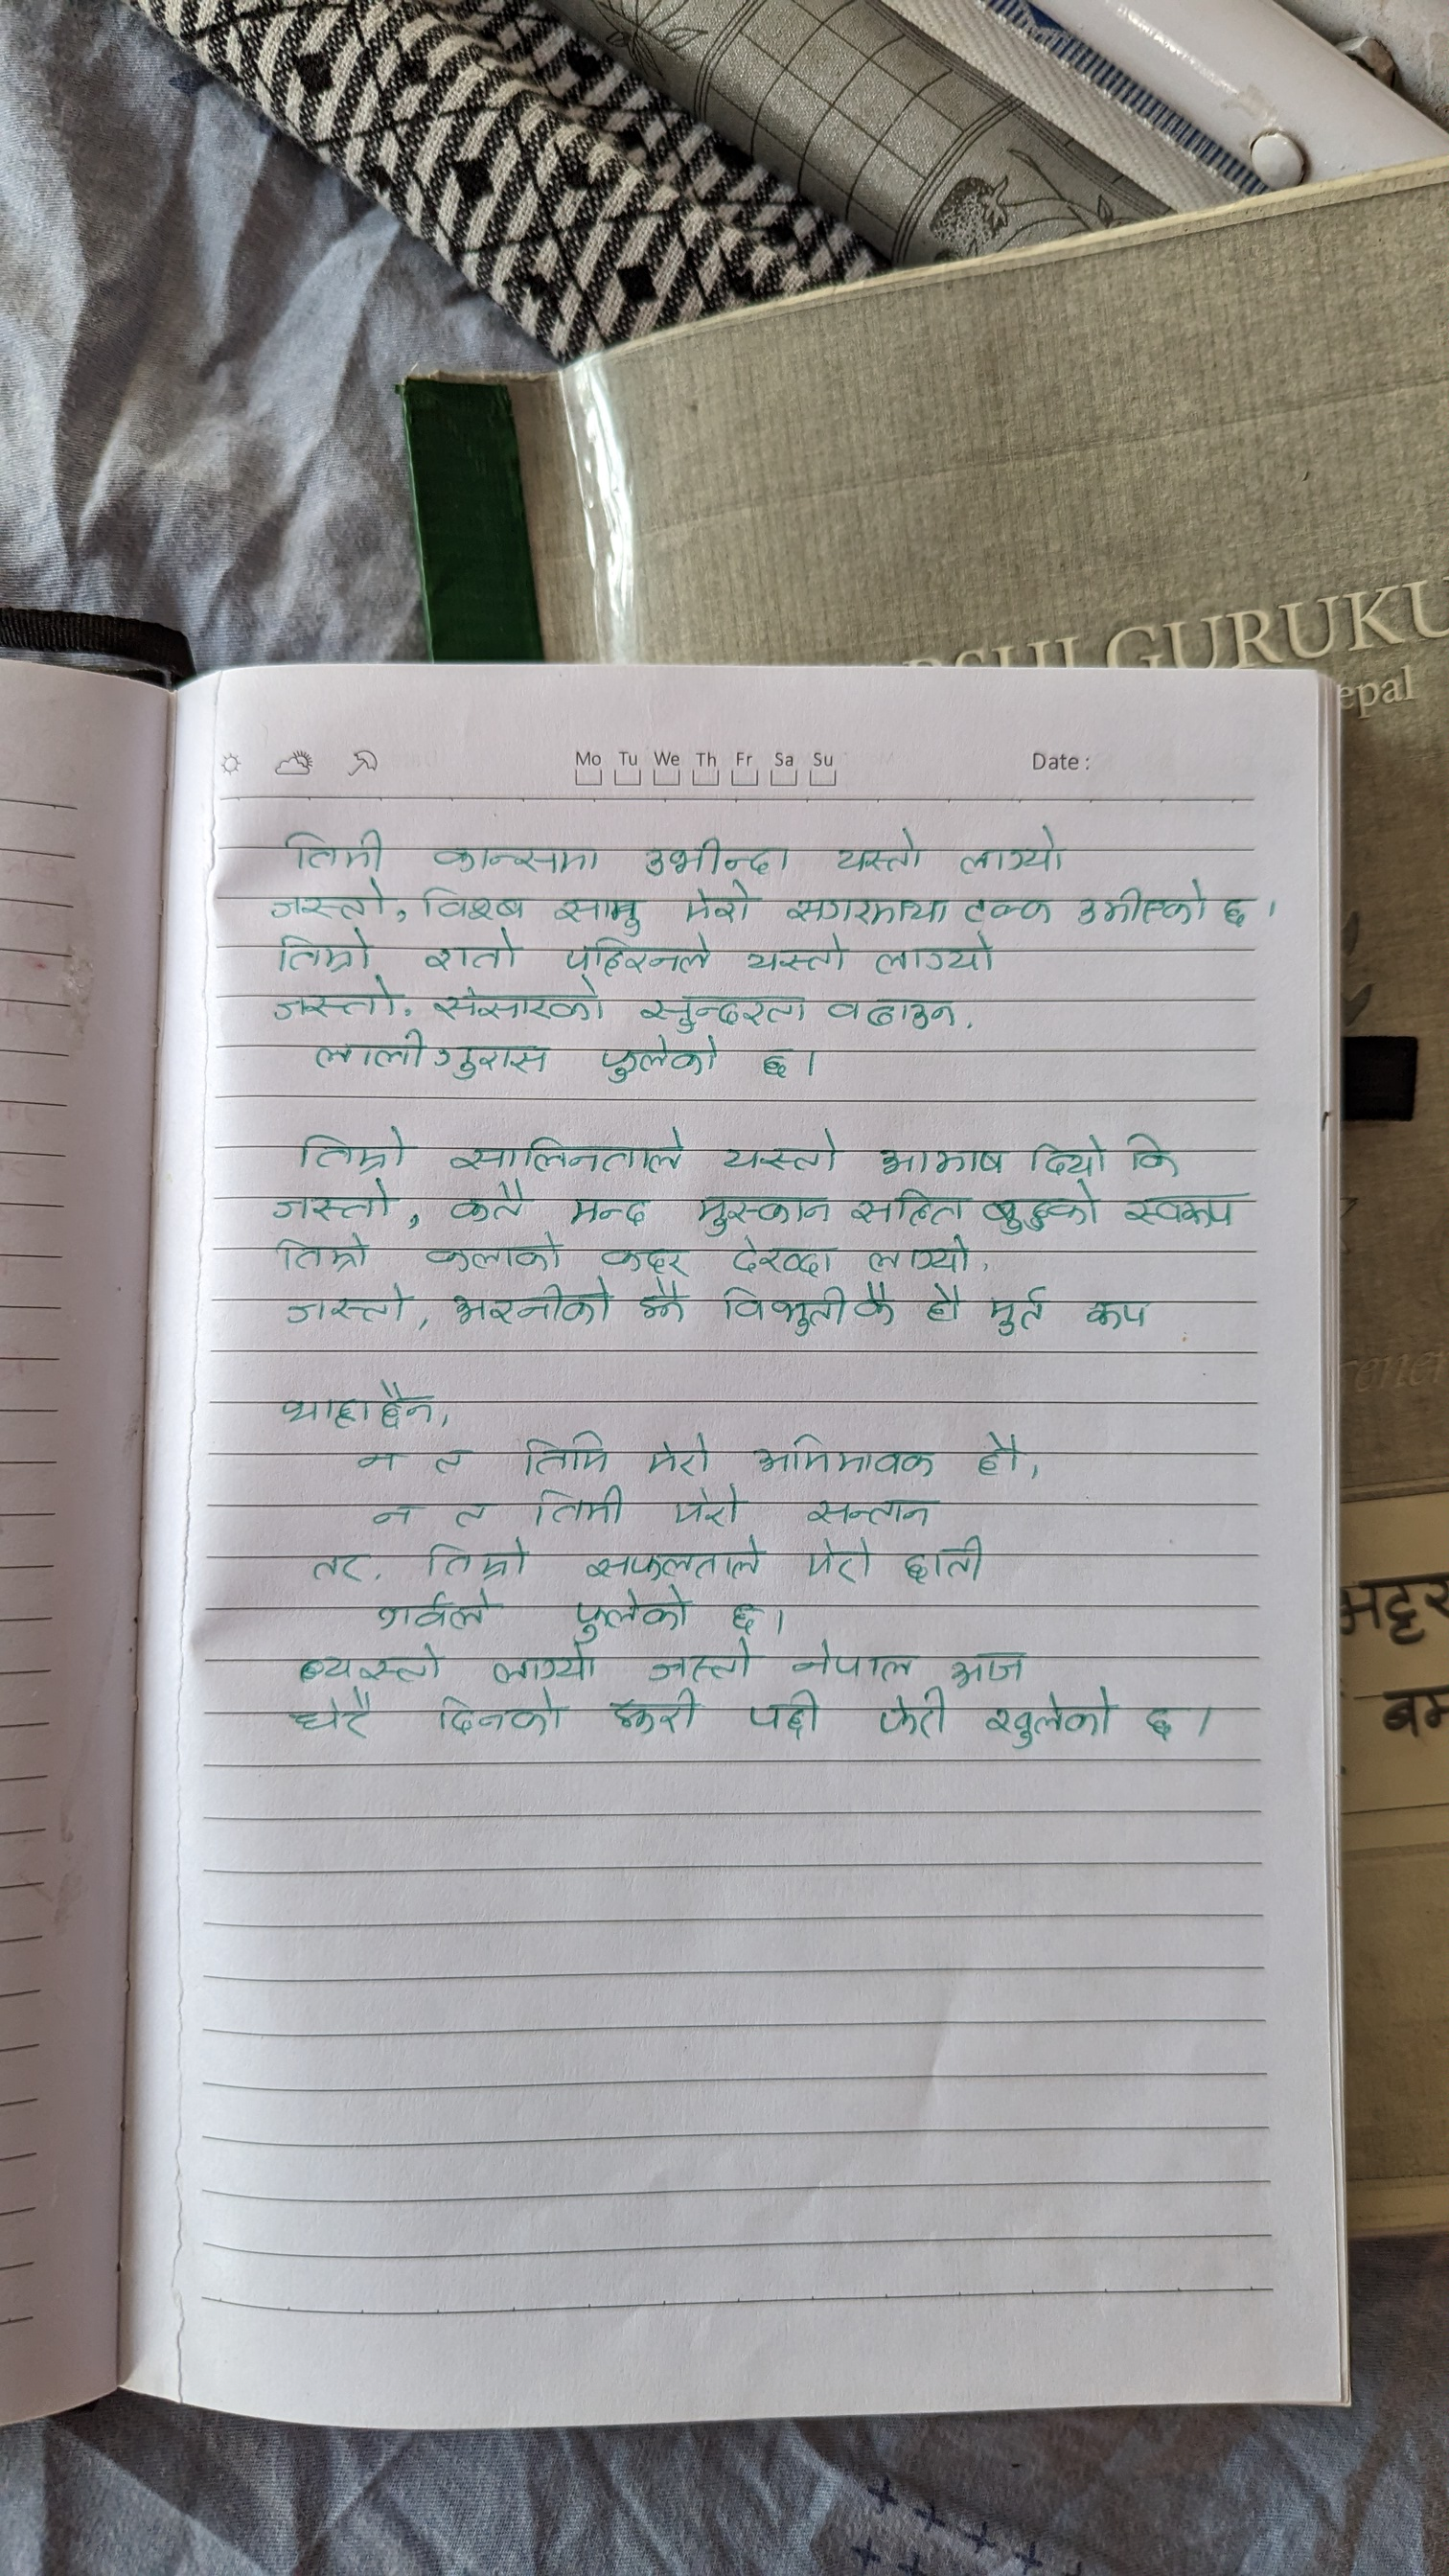text: (311, 1028, 548, 1083), (446, 1122, 683, 1177), (715, 1281, 897, 1339), (750, 1430, 936, 1479), (582, 1536, 763, 1585), (442, 1279, 616, 1329), (984, 1688, 1113, 1750), (428, 980, 607, 1023), (637, 991, 812, 1033), (640, 833, 793, 879), (421, 1231, 566, 1279), (568, 1585, 694, 1640), (1074, 879, 1212, 929), (692, 1189, 833, 1237), (432, 1690, 568, 1739), (432, 842, 602, 881), (780, 890, 950, 929), (600, 1031, 717, 1088), (978, 1180, 1099, 1235), (292, 1644, 453, 1684), (955, 824, 1069, 881), (373, 1585, 497, 1637), (786, 1637, 916, 1684), (563, 934, 715, 975), (720, 1125, 842, 1175), (265, 876, 387, 924), (281, 1283, 412, 1327), (271, 980, 400, 1024), (872, 931, 996, 977), (821, 993, 961, 1033), (265, 1180, 395, 1223), (301, 1125, 410, 1175), (725, 1231, 837, 1279), (421, 1536, 533, 1583), (872, 1141, 1007, 1180), (1123, 1191, 1240, 1235), (648, 1638, 755, 1686), (280, 824, 386, 872), (847, 1187, 966, 1230), (858, 1235, 977, 1277), (609, 1684, 706, 1736), (828, 824, 922, 878), (897, 1530, 987, 1585), (271, 929, 377, 975), (801, 1499, 938, 1534), (285, 1690, 382, 1739), (531, 1479, 626, 1529), (745, 929, 847, 975), (522, 1430, 614, 1481), (487, 1645, 602, 1686), (421, 885, 531, 927), (876, 1686, 955, 1743), (421, 931, 522, 975), (267, 1233, 373, 1272), (274, 1391, 372, 1431), (745, 1690, 821, 1741), (1026, 1136, 1109, 1182), (955, 890, 1053, 929), (446, 1180, 531, 1224), (550, 895, 642, 936), (982, 1283, 1047, 1339), (671, 1481, 747, 1529), (594, 1240, 692, 1277), (642, 1430, 715, 1477), (807, 1536, 876, 1585), (681, 879, 752, 927), (566, 1191, 653, 1230), (373, 1380, 435, 1431), (947, 1652, 1023, 1691), (632, 1277, 688, 1325), (1122, 1131, 1182, 1175), (918, 1283, 971, 1329), (1081, 1299, 1152, 1332), (975, 1430, 1023, 1479), (306, 1550, 366, 1585), (428, 1442, 478, 1479), (1139, 1700, 1177, 1746), (755, 1044, 793, 1086), (370, 1497, 419, 1529), (451, 1499, 495, 1530), (725, 1601, 763, 1635), (359, 1447, 403, 1474), (1217, 892, 1247, 929)
